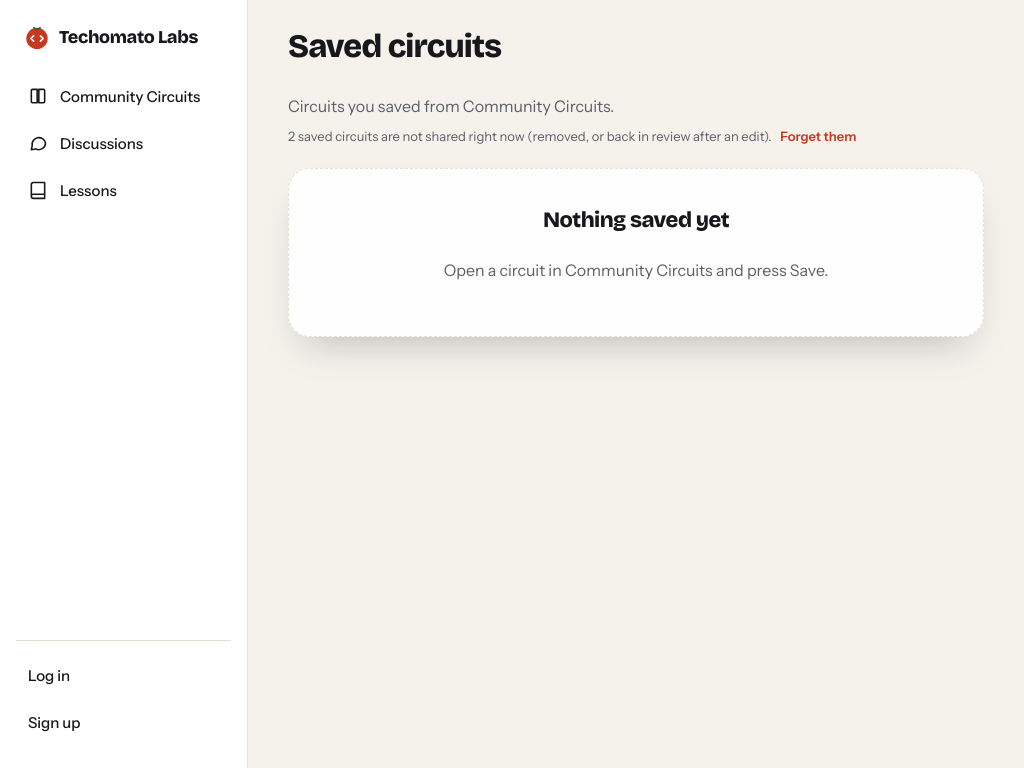
Test: SavedPage › SavedPage — circuits that are gone › says how many are unavailable and forgets them on request
Click the button "Forget them": (818, 136) [774,122,862,150]
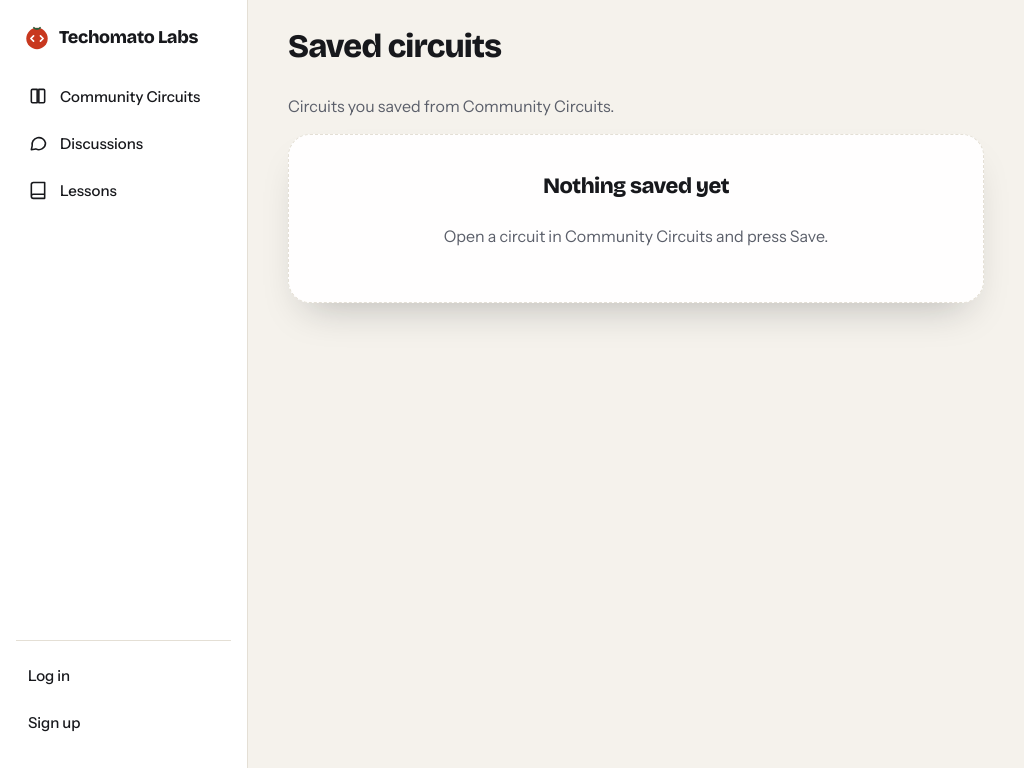
Check: the text "not shared right now" is gone
